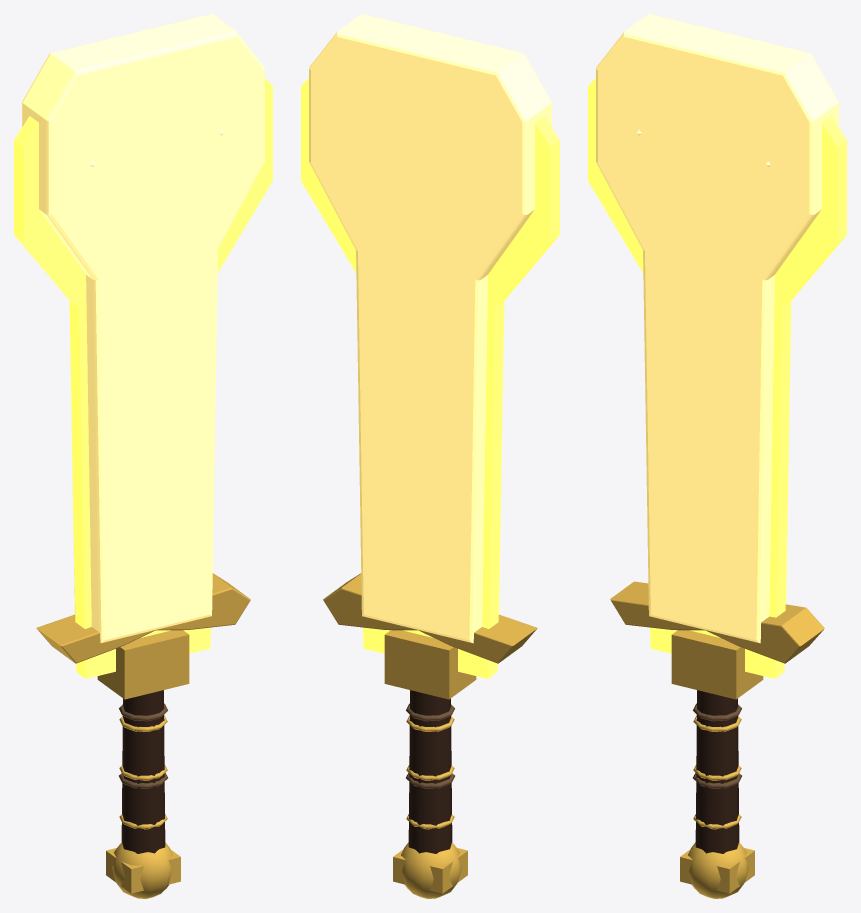
Rendered from greatsword_f1_4994670f.glb.
3 renders of one model, left to right at view 1: azimuth 30°, elevation 25°; view 2: azimuth 150°, elevation 25°; view 3: azimuth 330°, elevation 25°, orthographic.
Parts seen in each view (by area): view 1: m3_ow80_, m0_gm110_, m4_ow80_, m2_ow80_, m5_ow80_; view 2: m3_ow80_, m0_gm110_, m4_ow80_, m2_ow80_, m5_ow80_; view 3: m3_ow80_, m0_gm110_, m4_ow80_, m2_ow80_, m5_ow80_.
Boxes of the visible parts, box(x1,y1,x2,y2) form: m3_ow80_: box(22, 14, 264, 643); m0_gm110_: box(14, 78, 272, 678); m4_ow80_: box(36, 573, 250, 898); m2_ow80_: box(121, 690, 165, 853); m5_ow80_: box(119, 703, 167, 788); m3_ow80_: box(309, 14, 551, 643); m0_gm110_: box(301, 78, 559, 678); m4_ow80_: box(323, 573, 537, 898); m2_ow80_: box(408, 690, 452, 853); m5_ow80_: box(406, 703, 454, 788); m3_ow80_: box(596, 14, 838, 643); m0_gm110_: box(588, 78, 846, 678); m4_ow80_: box(610, 581, 824, 898); m2_ow80_: box(695, 690, 739, 853); m5_ow80_: box(693, 703, 741, 788).
Size of the model in its own units: 0.8496 by 2.78 by 0.1856.
